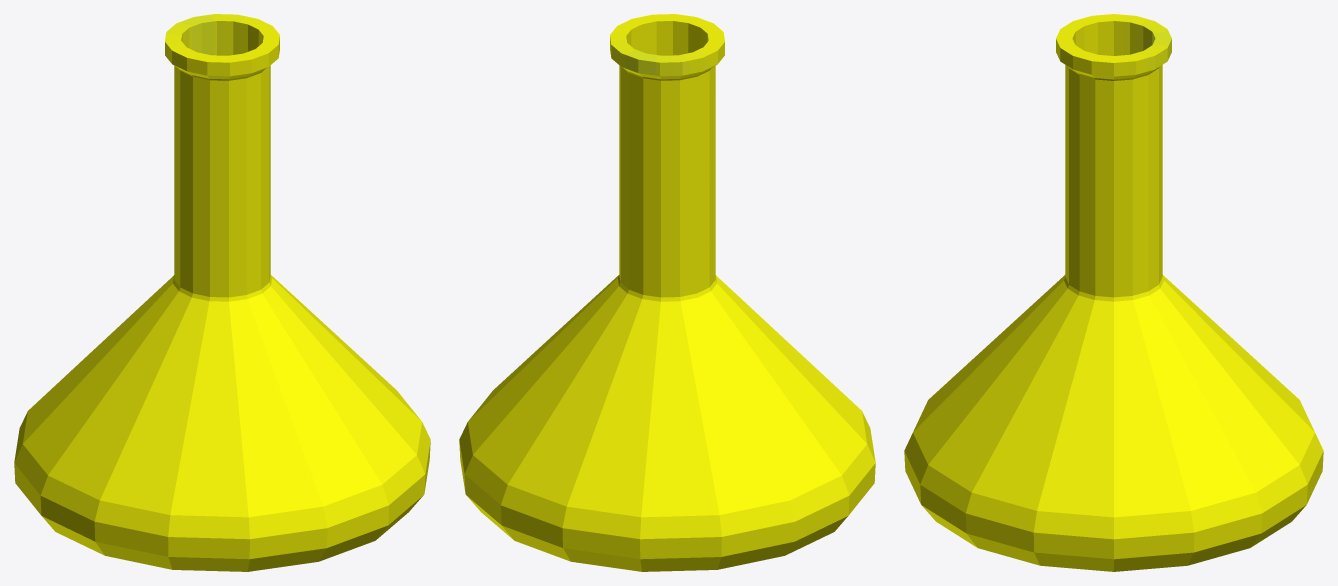
The model's file is fioleYellow.fbx.
3 renders of one model, left to right at view 1: azimuth 30°, elevation 25°; view 2: azimuth 150°, elevation 25°; view 3: azimuth 270°, elevation 25°, orthographic.
Parts seen in each view (by area): view 1: MSH_Fiole2; view 2: MSH_Fiole2; view 3: MSH_Fiole2.
Part boxes in pixels (box(x1,y1,x2,y2)): MSH_Fiole2: box(14, 14, 430, 571); MSH_Fiole2: box(459, 14, 875, 571); MSH_Fiole2: box(904, 14, 1323, 571).
Size of the model in its own units: 1.68 by 2.06 by 1.68.
